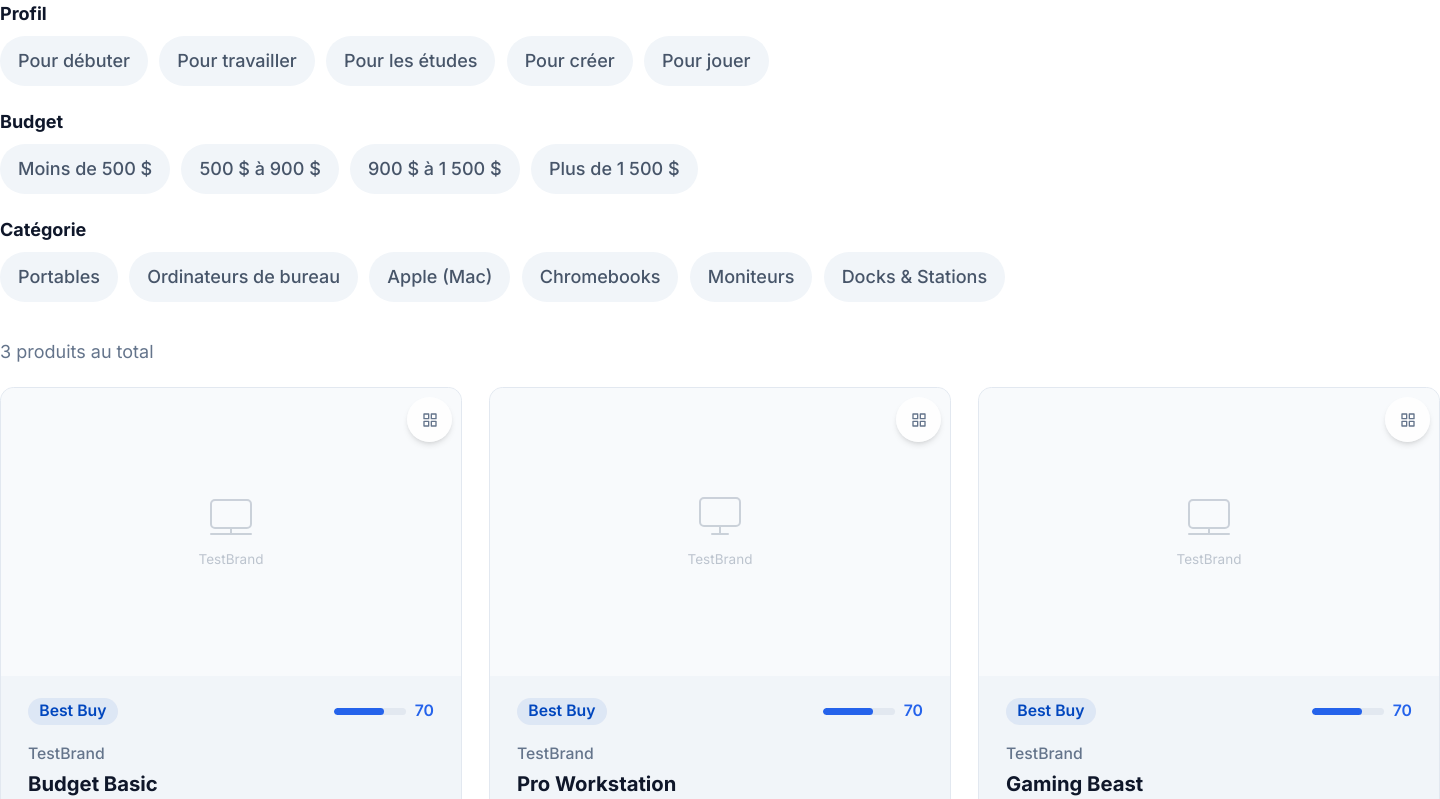
Test: CatalogueFilters › toggles off filter when the same button is clicked again
Step 1. Click the button "Pour jouer" → (706, 61), box left=644, top=36, right=769, bottom=86
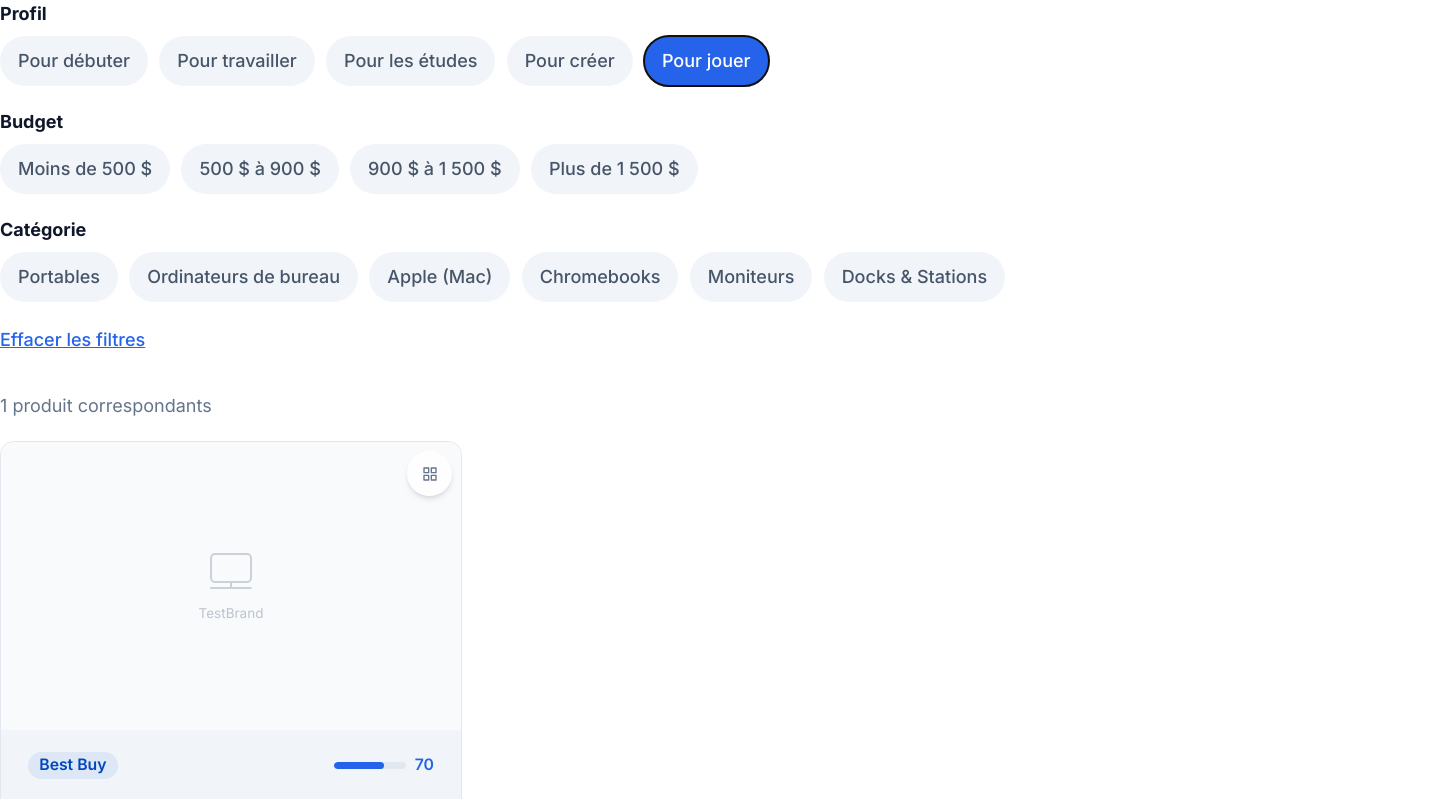
Check: the text "1 produit correspondants" is shown, box left=0, top=394, right=212, bottom=416
Step 2. Click the button "Pour jouer" → (706, 61), box left=644, top=36, right=769, bottom=86
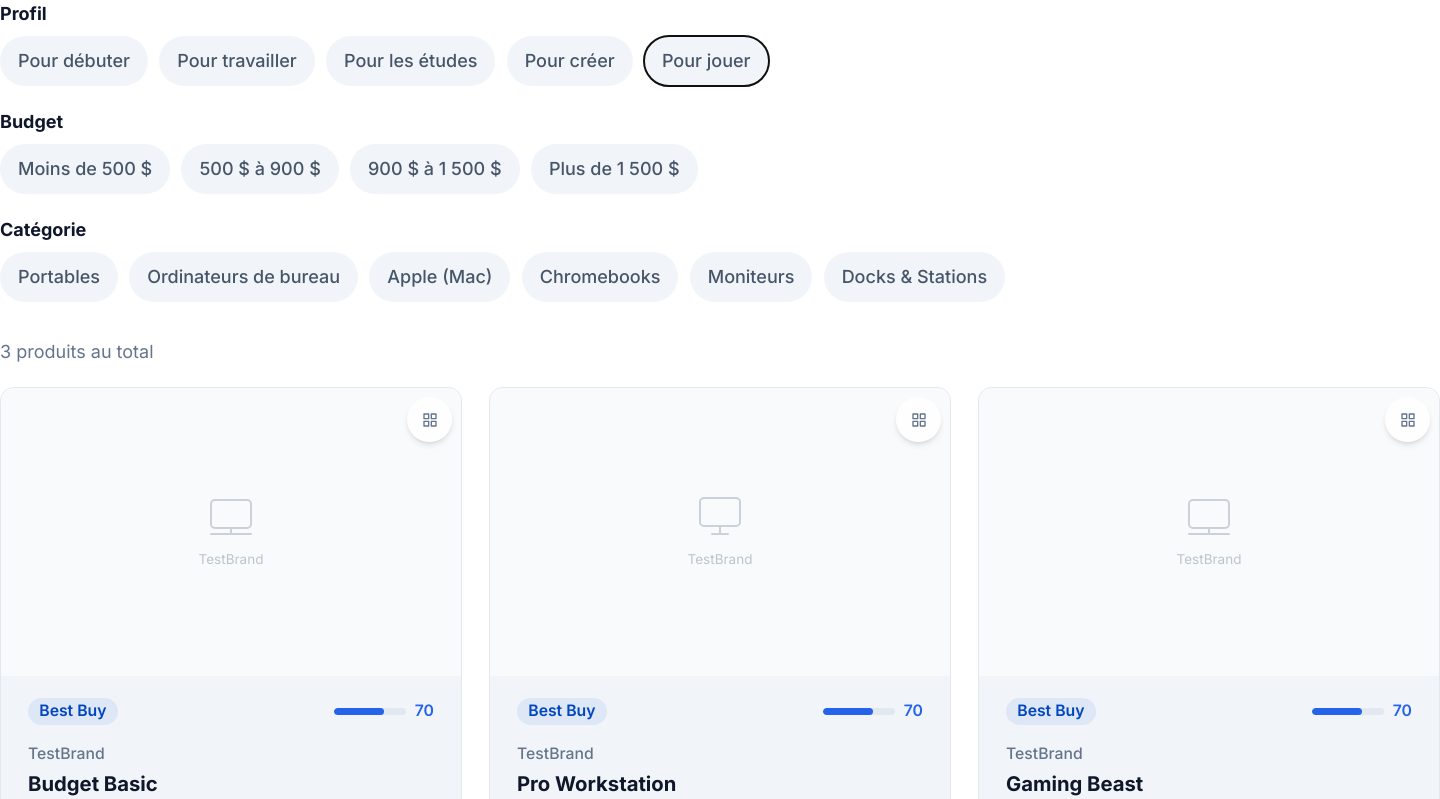
Check: the text "3 produits au total" is shown, box left=0, top=340, right=154, bottom=362
